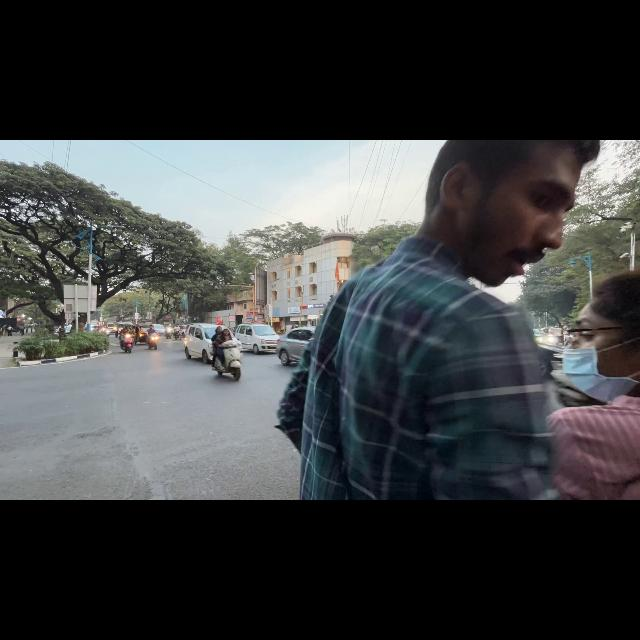car: (184, 323, 226, 363), (277, 327, 315, 365), (235, 323, 279, 354), (533, 329, 544, 343), (153, 324, 164, 335)
motorcycle: (212, 340, 241, 380), (121, 334, 133, 353), (147, 334, 159, 349), (165, 327, 173, 338), (173, 328, 180, 339)
